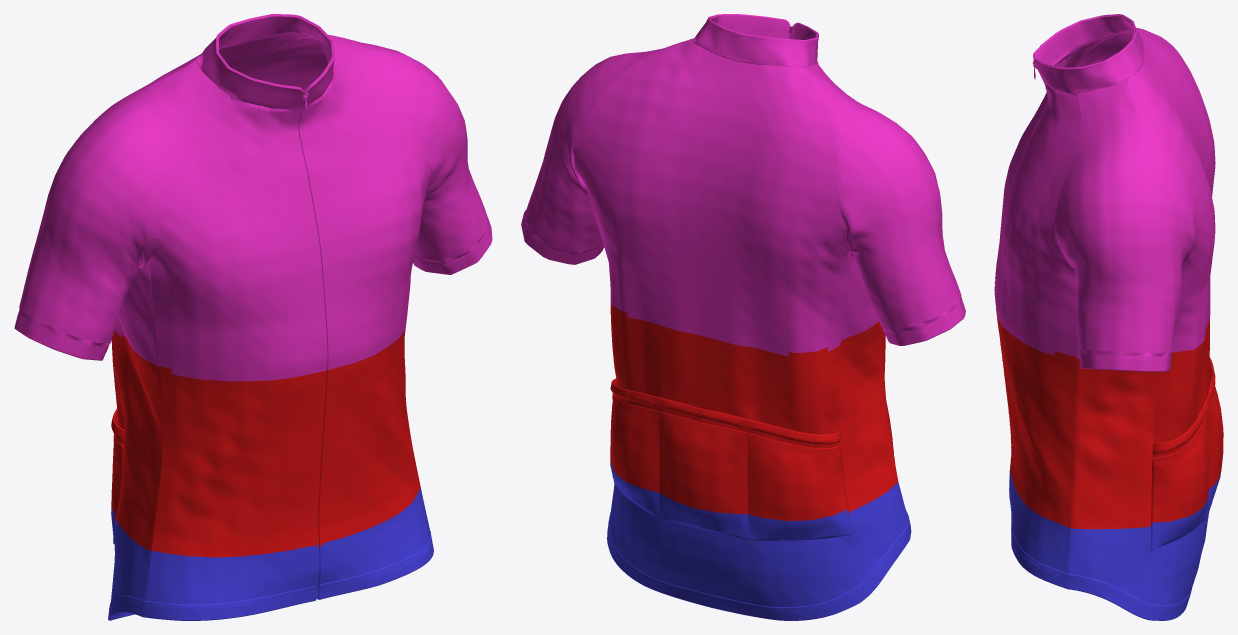
Rendered from jersey-transformed.glb.
3 views of the same model, side by side, from view 1: azimuth 30°, elevation 25°; view 2: azimuth 150°, elevation 25°; view 3: azimuth 270°, elevation 25° (orthographic). The views are drawn at different scales.
Parts seen in each view (by area): view 1: Jersey; view 2: Jersey; view 3: Jersey.
Part boxes in pixels (x1=…): Jersey: x1=14, y1=14, x2=492, y2=620; Jersey: x1=521, y1=14, x2=965, y2=620; Jersey: x1=994, y1=14, x2=1223, y2=620.
Size of the model in its own units: 1.25 by 1.54 by 0.5815.
